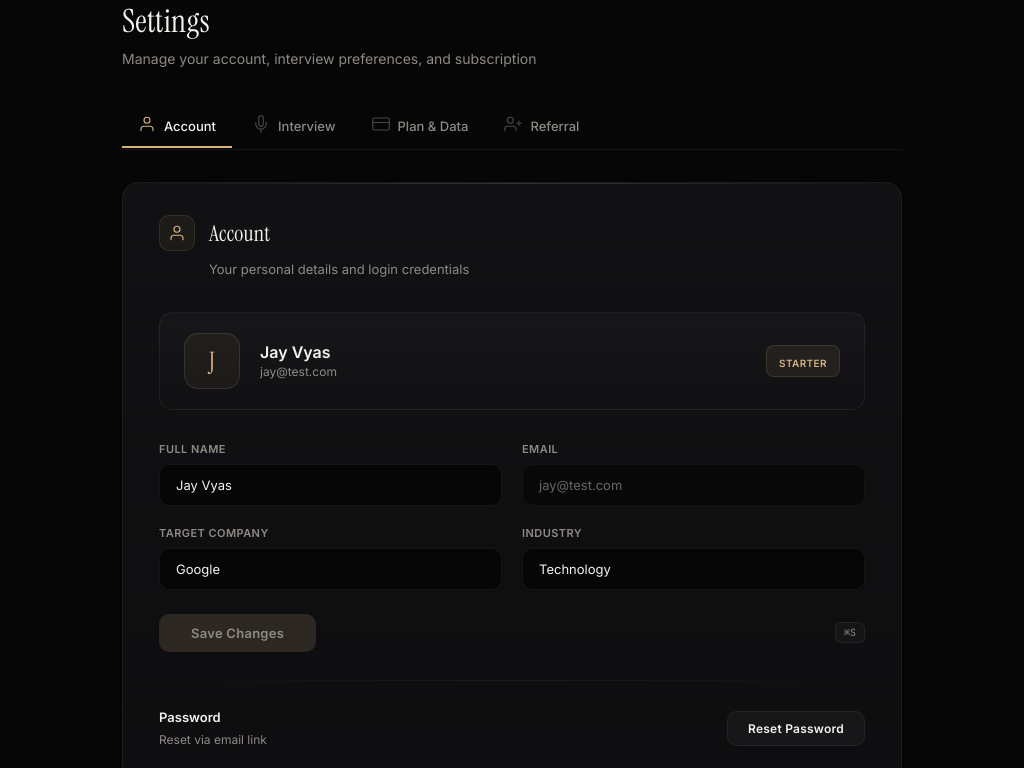
Test: Flow 5: Settings › shows delete confirmation on click
This screenshot has width=1024, height=768.
Click the tab "Plan & Data" at (420, 126), box [356,105,484,148]
(page scrolled)
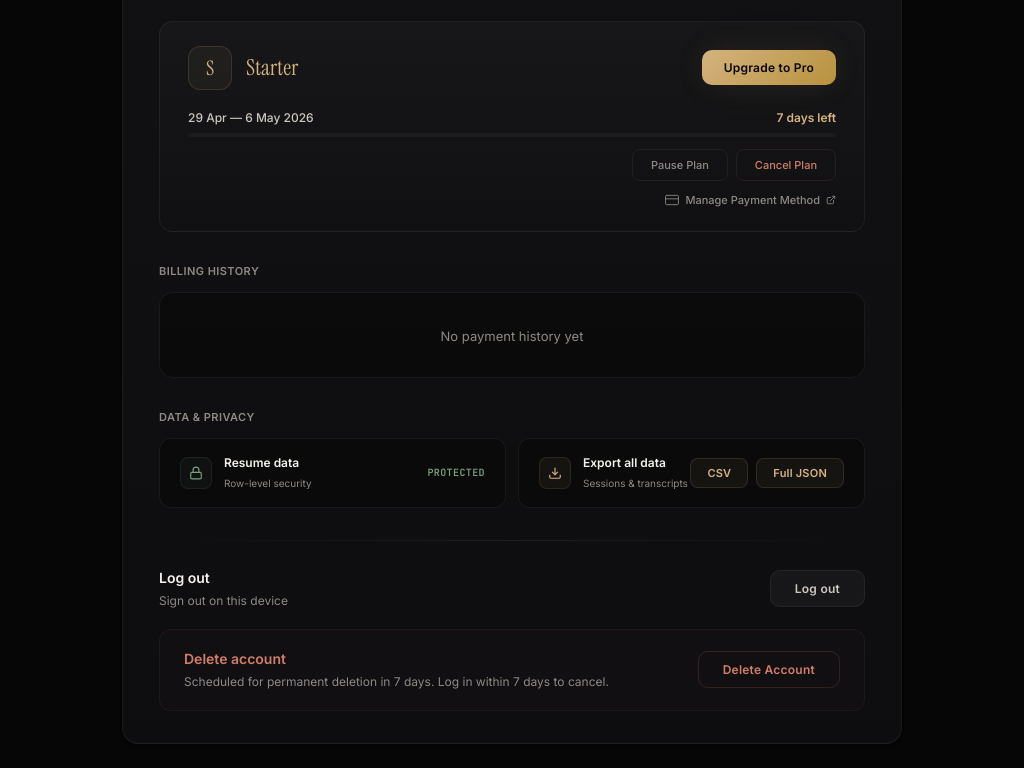
Click the button "Delete Account" at (769, 670), box [698,651,840,688]
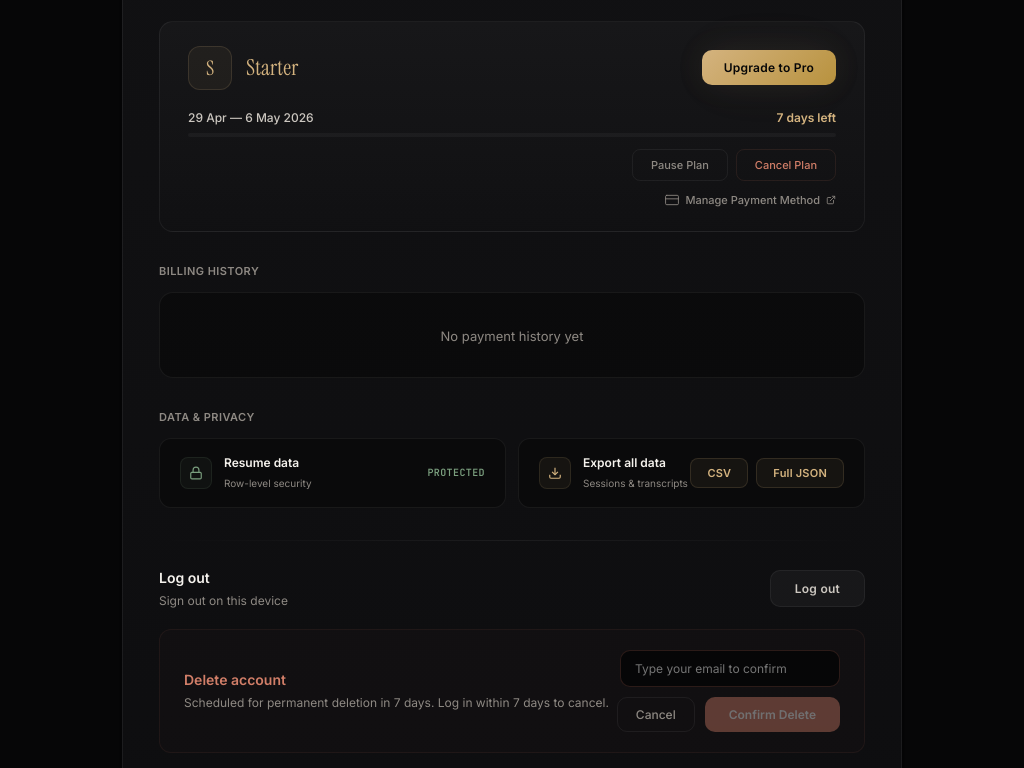
Now the button "Confirm Delete" is shown, box [705,697,840,732]
Now the button "Cancel" is shown, box [617,697,695,732]
